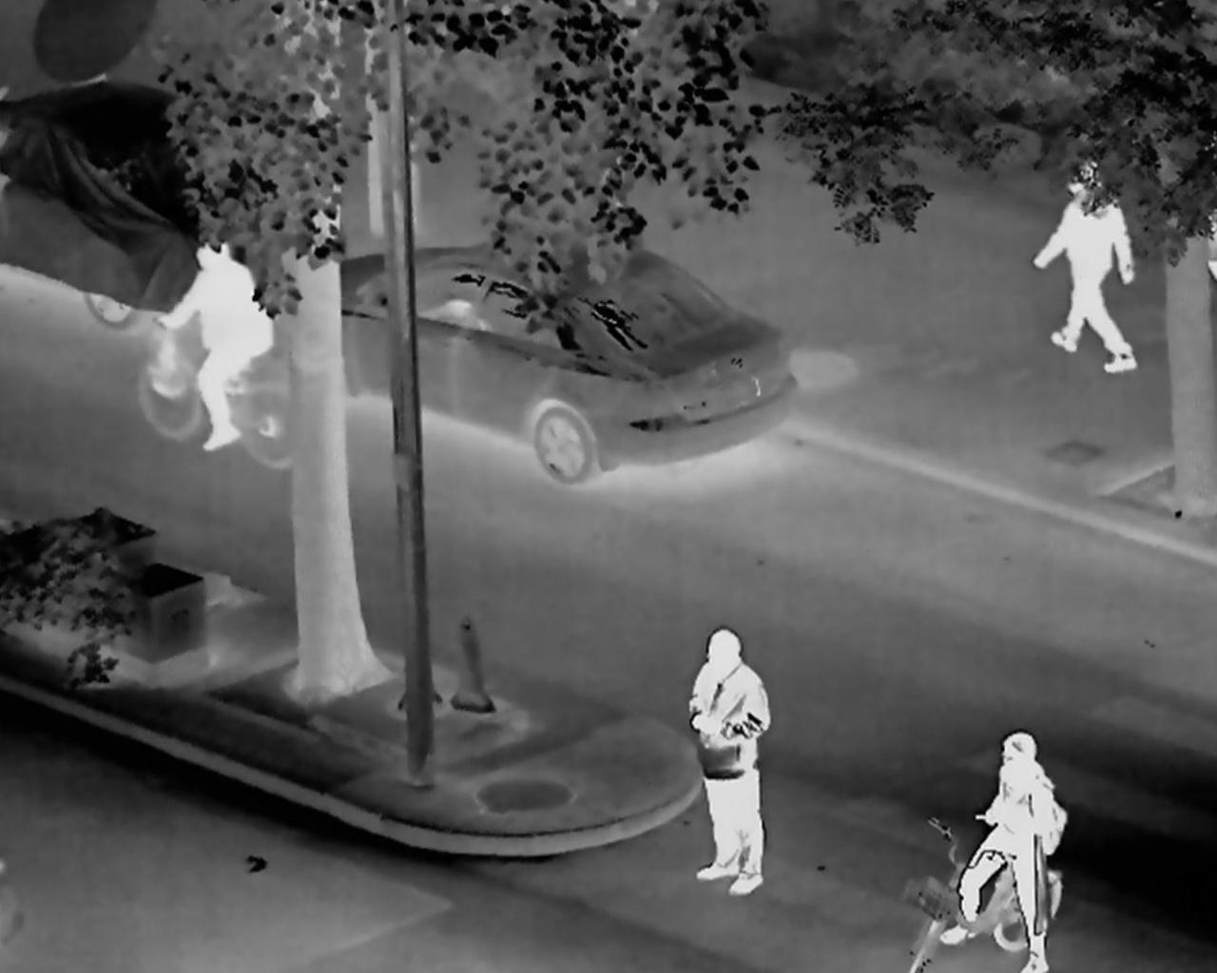person: (940, 733, 1061, 971), (160, 235, 274, 451), (687, 626, 773, 895), (1034, 161, 1138, 375)
